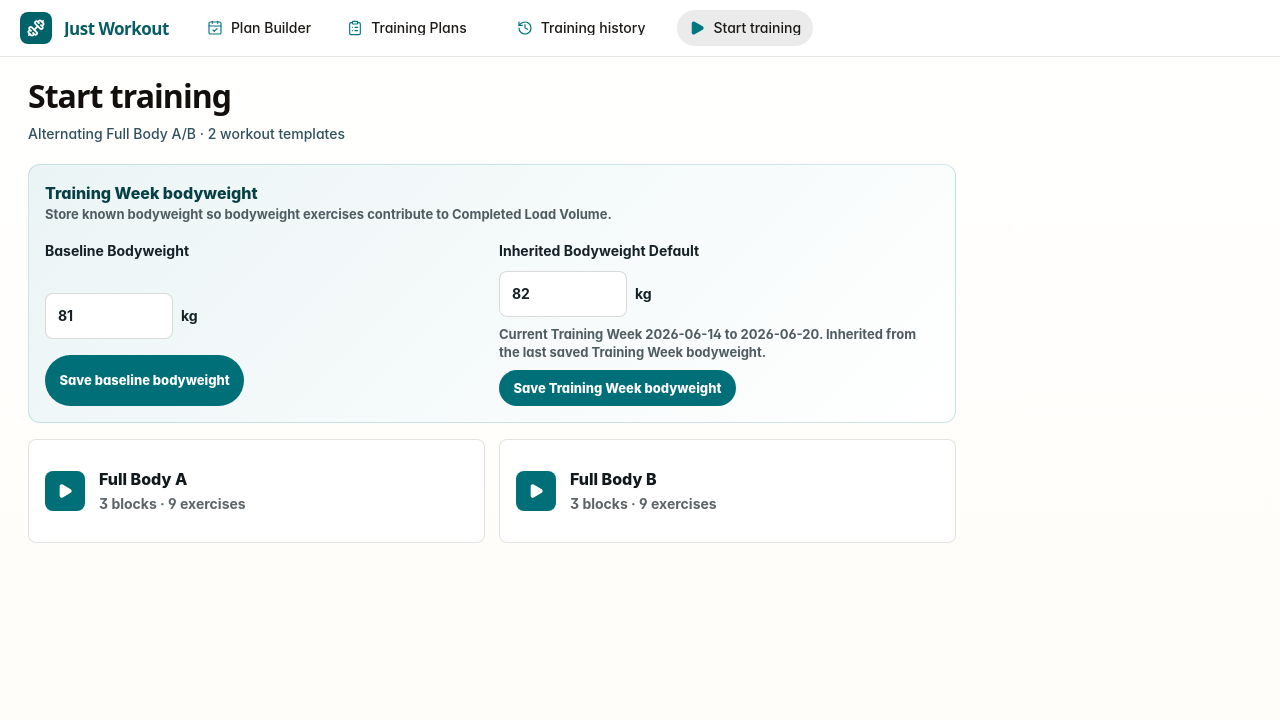
it: TrainingPlanRoute › uses inherited Training Week bodyweight as the Session default and keeps a Per-Session override
expect the heading "Start training" is shown: met, box top-left (28, 74), bottom-right (231, 117)
Click the link with aria-label "Start Full Body A session" at (65, 491), box top-left (28, 439), bottom-right (485, 543)
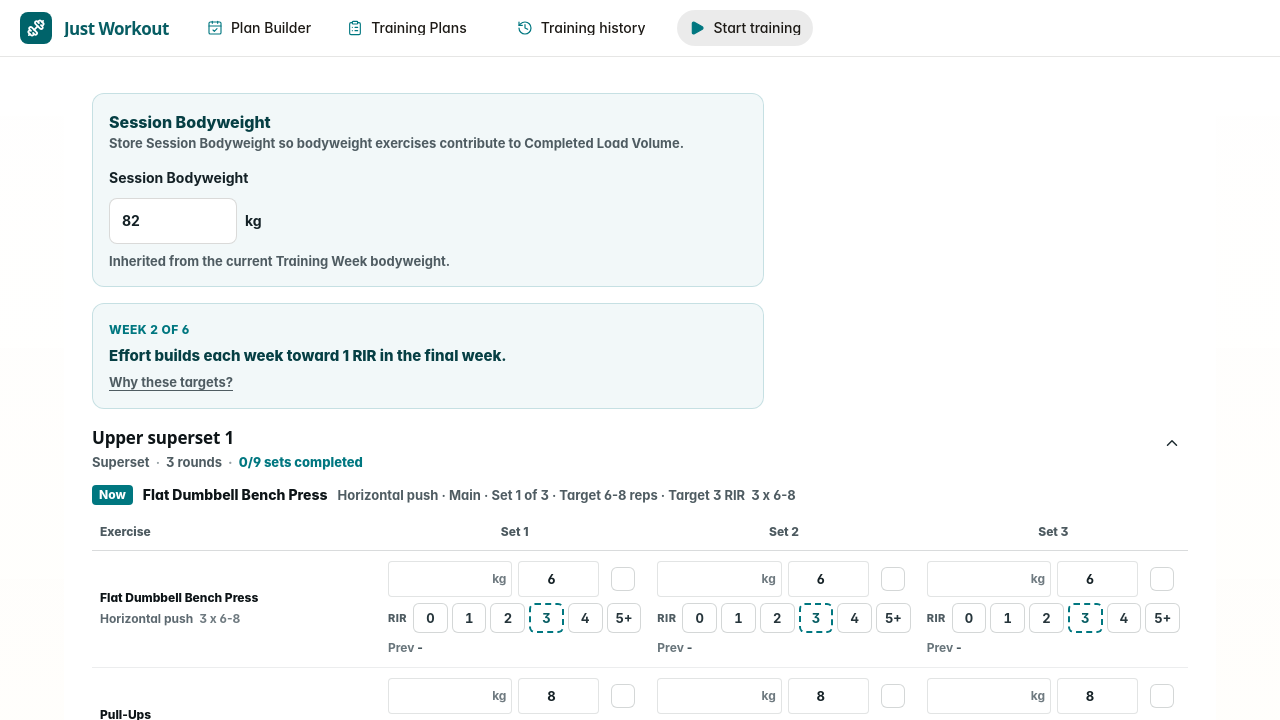
expect the number field labelled "Session Bodyweight" holds "82": met
Replace the text in the number field labelled "Session Bodyweight" with "80" at (173, 221), box top-left (109, 198), bottom-right (237, 244)
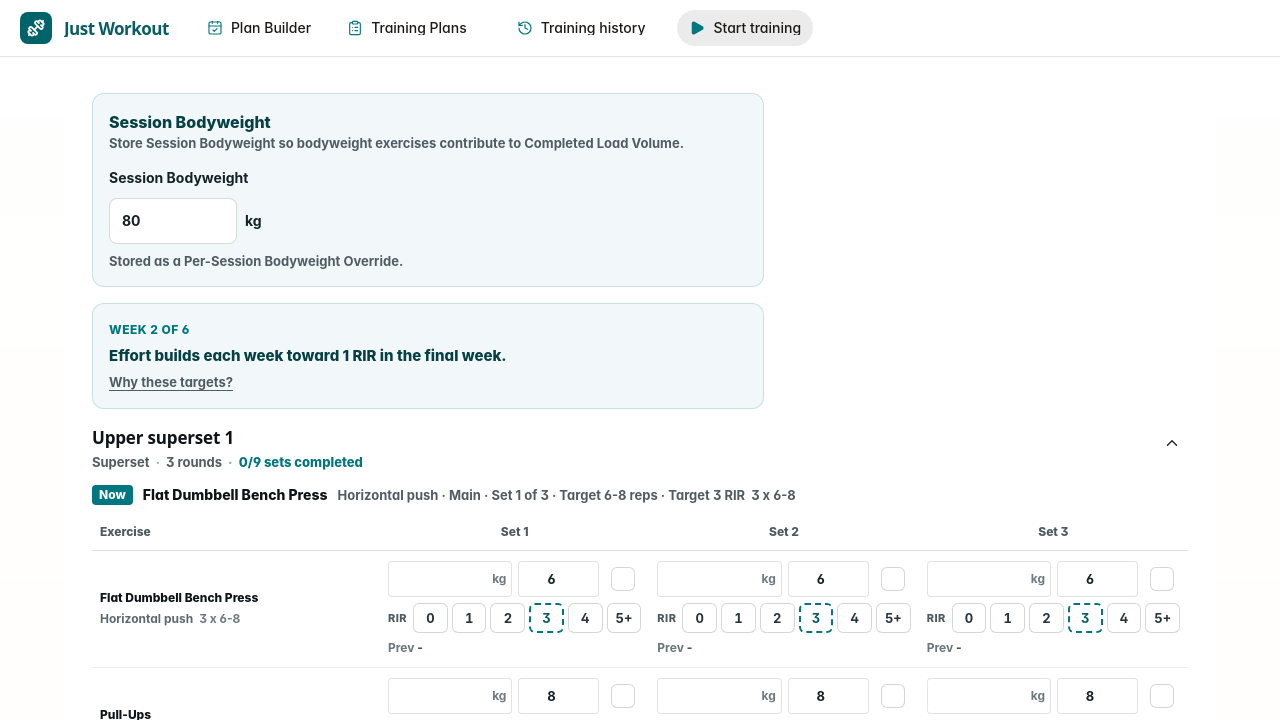
expect the text "Stored as a Per-Session Bodyweight Override." is shown: met, box top-left (109, 253), bottom-right (403, 269)
Type "40" into the number field named "Flat Dumbbell Bench Press set 1 weight" at (450, 579), box top-left (388, 561), bottom-right (512, 597)
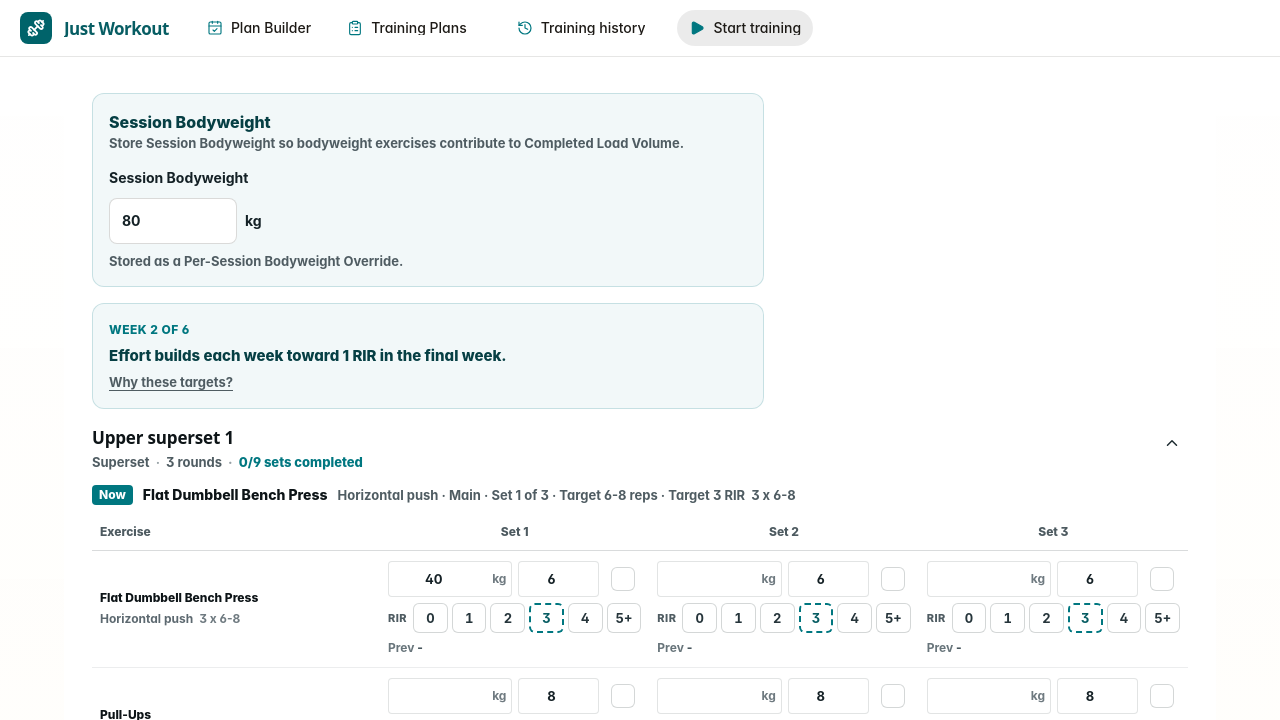
Replace the text in the number field named "Flat Dumbbell Bench Press set 1 reps" with "10" at (559, 579), box top-left (518, 561), bottom-right (599, 597)
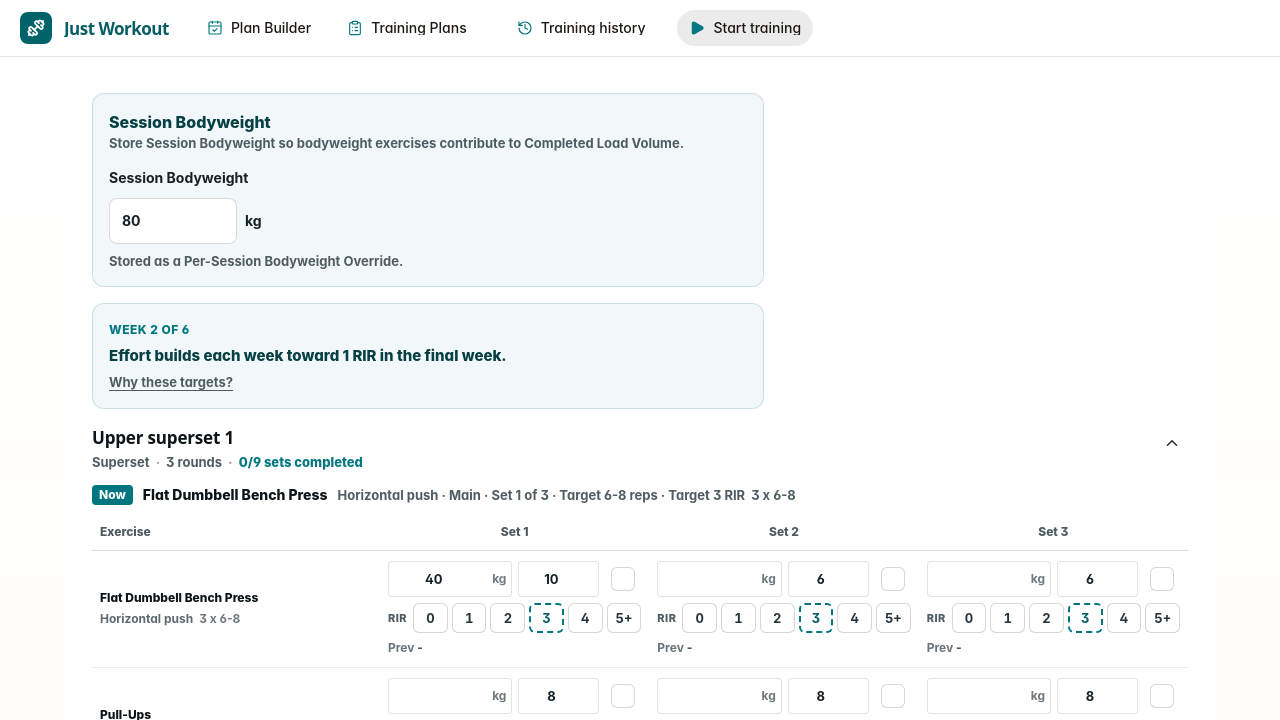
Click the checkbox named "Mark Flat Dumbbell Bench Press set 1 done" at (623, 579), box top-left (611, 567), bottom-right (635, 591)
(page scrolled)
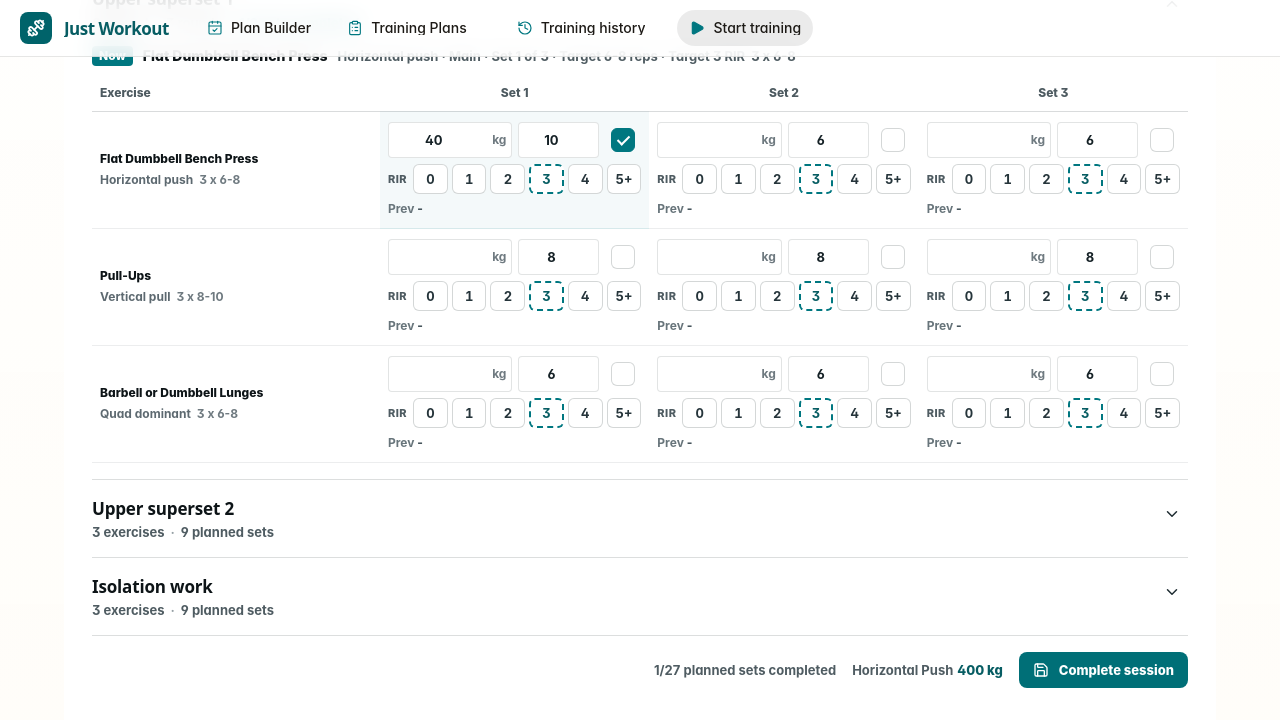
Click the button "Complete session" at (1103, 670), box top-left (1019, 652), bottom-right (1188, 688)
(page scrolled)
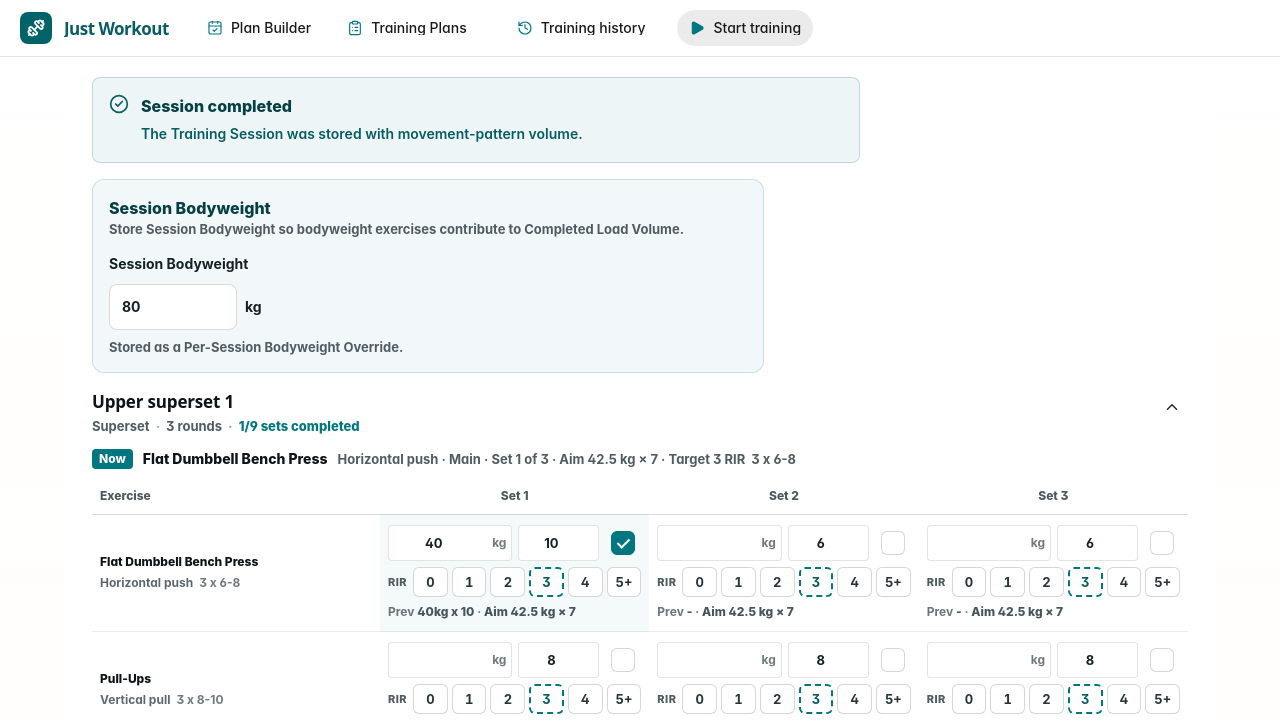
expect the heading "Session completed" is shown: met, box top-left (141, 96), bottom-right (292, 116)
